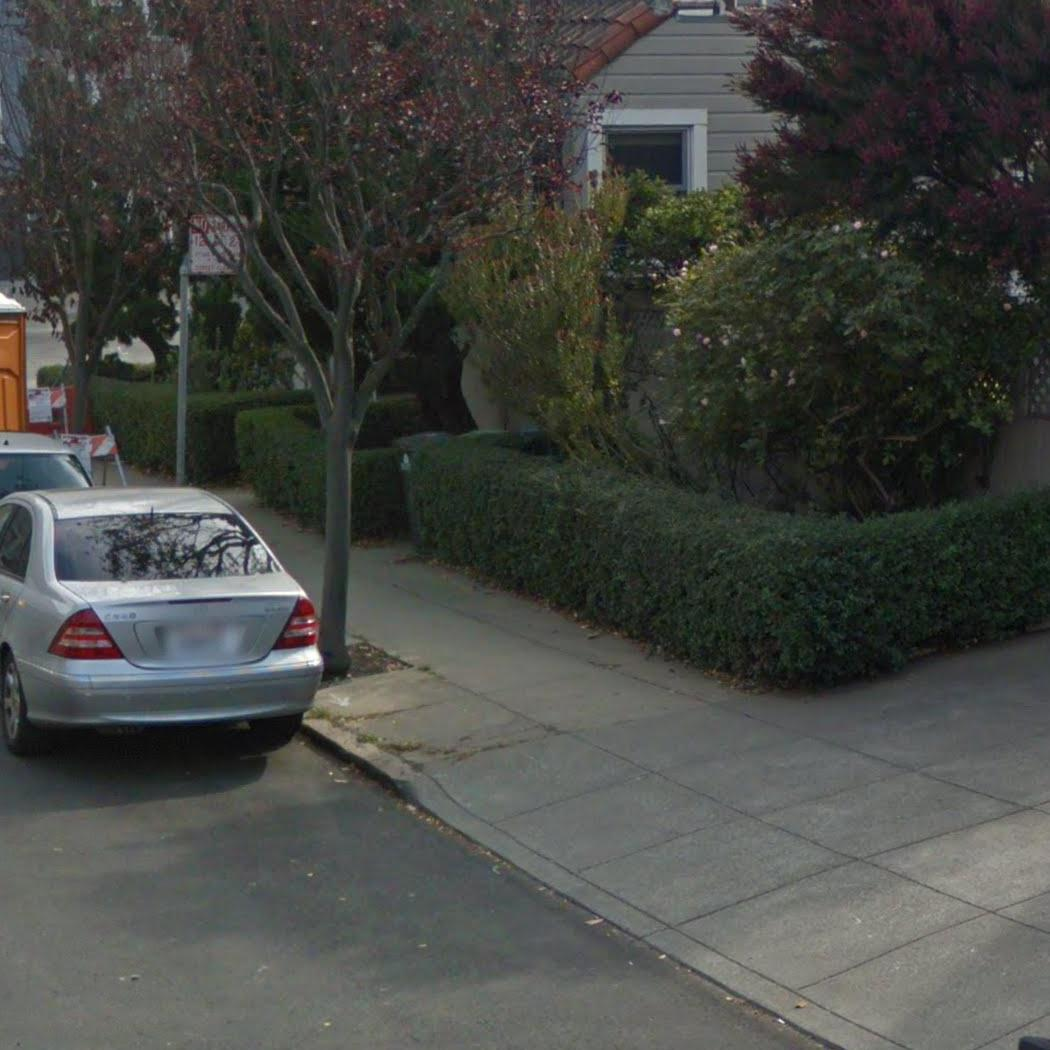No Parking: (186, 208, 253, 278)
